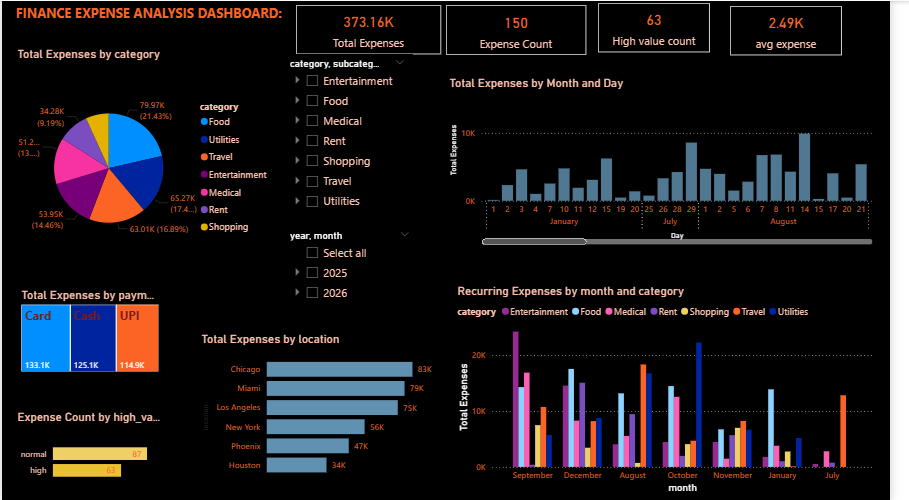

Layout of this report page (visuals, bound fields, positions):
{"tool":"powerbi","page":{"name":"Page 1","canvas":[1280,720],"ordinal":0},"visuals":[{"type":"card","fields":{"Values":["finance_expense.Total Expenses"]},"box":[423.4,5.8,208.8,70.6],"z":0},{"type":"card","fields":{"Values":["finance_expense.High value count"]},"box":[858.2,2.9,161.3,70.6],"z":1000},{"type":"card","fields":{"Values":["finance_expense.Expense Count"]},"box":[639.4,5.8,201.6,72],"z":2000},{"type":"pieChart","fields":{"Category":["finance_expense.category"],"Y":["finance_expense.Total Expenses"]},"box":[17.3,66.2,378.7,329.8],"z":3000},{"type":"treemap","fields":{"Group":["finance_expense.payment_mode"],"Values":["finance_expense.Total Expenses"]},"box":[23,413.3,207.4,125.3],"z":4000},{"type":"slicer","fields":{"Values":["finance_expense.year","finance_expense.month"]},"box":[401.8,324,197.3,152.6],"z":5000},{"type":"slicer","fields":{"Values":["finance_expense.category Hierarchy.category","finance_expense.subcategory"]},"box":[401.8,76.3,190.1,231.8],"z":6000},{"type":"columnChart","fields":{"Category":["finance_expense.expense_date.Variation.Date Hierarchy.Year","finance_expense.expense_date.Variation.Date Hierarchy.Month","finance_expense.expense_date.Variation.Date Hierarchy.Day"],"Y":["finance_expense.Total Expenses"]},"box":[639.4,93.6,619.2,282.2],"z":7000},{"type":"barChart","fields":{"Y":["finance_expense.Expense Count"],"Category":["finance_expense.high_value_flag"]},"box":[17.3,589,217.4,123.8],"z":8000},{"type":"textbox","box":[0,0,423.4,38.9],"z":9000},{"type":"clusteredBarChart","fields":{"Category":["finance_expense.location"],"Y":["finance_expense.Total Expenses"]},"box":[282.2,476.6,357.1,218.9],"z":10000},{"type":"clusteredColumnChart","title":"Recurring Expenses by month and category","fields":{"Category":["finance_expense.month"],"Y":["finance_expense.Total Expenses"],"Series":["finance_expense.category"]},"box":[650.9,407.5,607.7,306.7],"z":11000},{"type":"card","fields":{"Values":["finance_expense.avg expense"]},"box":[1048.3,7.2,161.3,70.6],"z":12000}]}

Visuals, with their boxes in screenshot pixels (x1, y1, x2, y2), scaled from the page's 1280x720 canvas onto the 909x500 screenshot:
card - finance_expense.Total Expenses: [301,4,449,53]
card - finance_expense.High value count: [609,2,724,51]
card - finance_expense.Expense Count: [454,4,597,54]
pieChart - finance_expense.category x finance_expense.Total Expenses: [12,46,281,275]
treemap - finance_expense.payment_mode x finance_expense.Total Expenses: [16,287,164,374]
slicer - finance_expense.year x finance_expense.month: [285,225,425,331]
slicer - finance_expense.category Hierarchy.category x finance_expense.subcategory: [285,53,420,214]
columnChart - finance_expense.expense_date.Variation.Date Hierarchy.Year x finance_expense.expense_date.Variation.Date Hierarchy.Month: [454,65,894,261]
barChart - finance_expense.Expense Count x finance_expense.high_value_flag: [12,409,167,495]
textbox: [0,0,301,27]
clusteredBarChart - finance_expense.location x finance_expense.Total Expenses: [200,331,454,483]
"Recurring Expenses by month and category" clusteredColumnChart: [462,283,894,496]
card - finance_expense.avg expense: [744,5,859,54]
